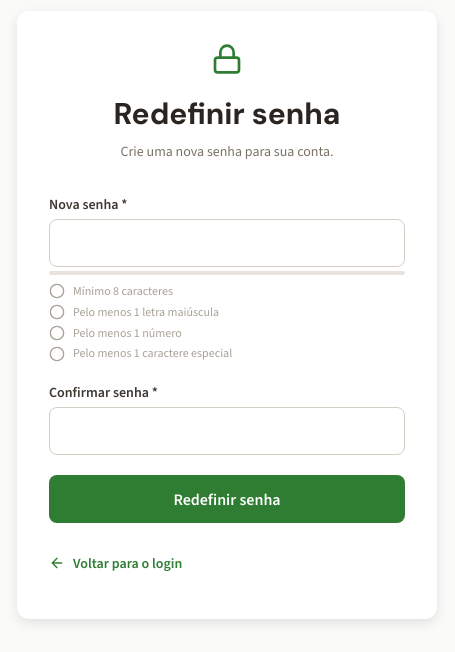
Test: ResetPasswordPage › shows validation error when password is weak
Type "weak" into the password field labelled "Nova senha *". click: (227, 243)
box: [49,219,405,267]
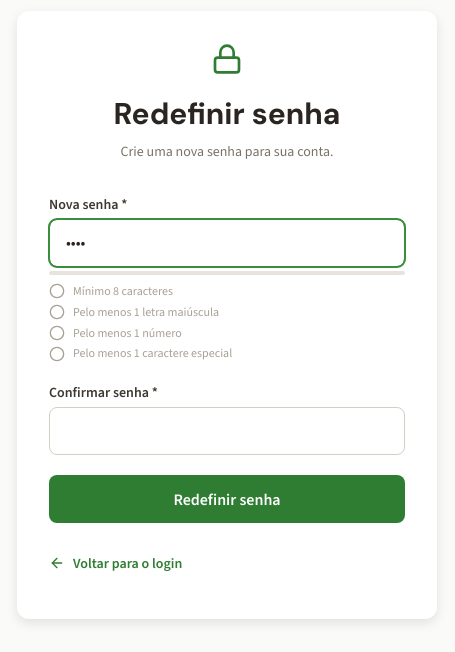
Press Tab
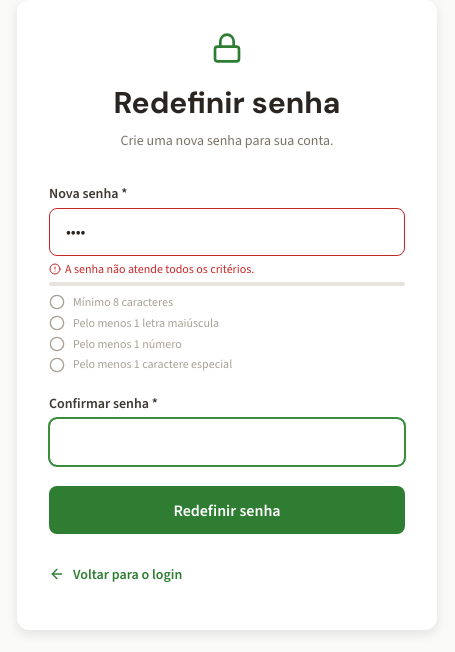
Now the text "A senha não atende todos os critérios." is shown, box [49,261,254,277]
